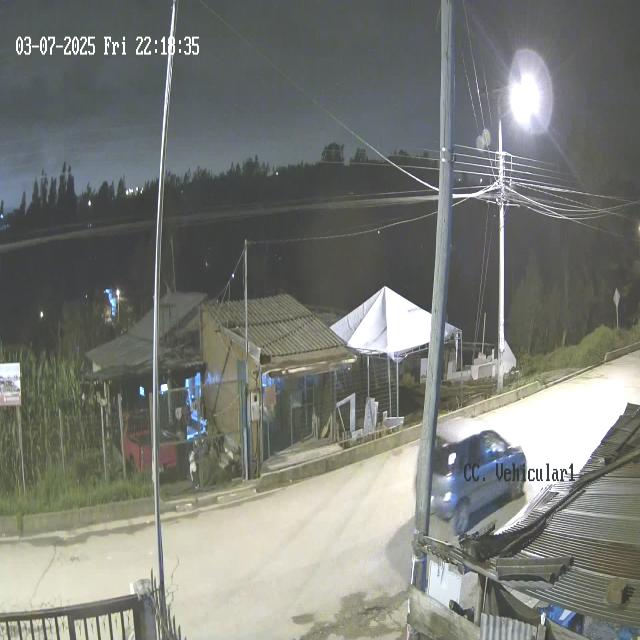SUV: (423, 423, 527, 530)
